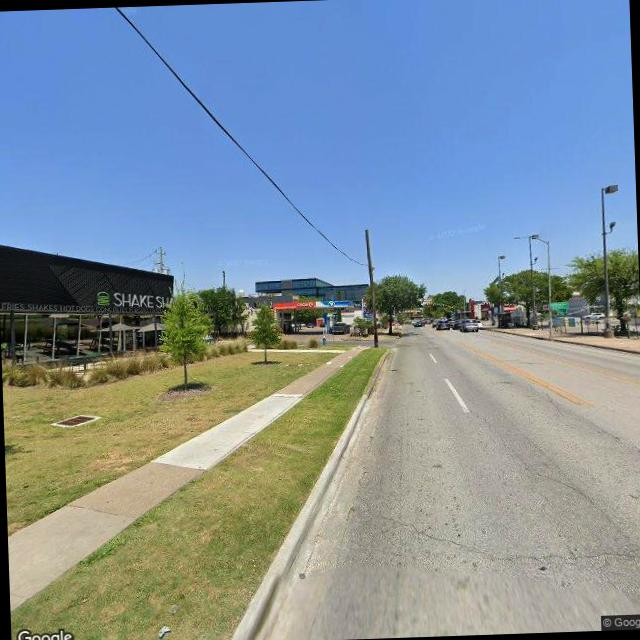crack: (313, 482, 640, 576), (464, 394, 586, 566)
